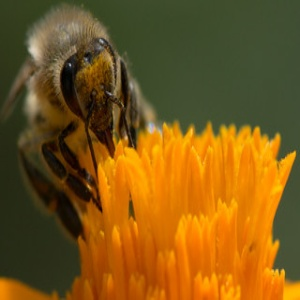bee: (5, 1, 145, 244)
